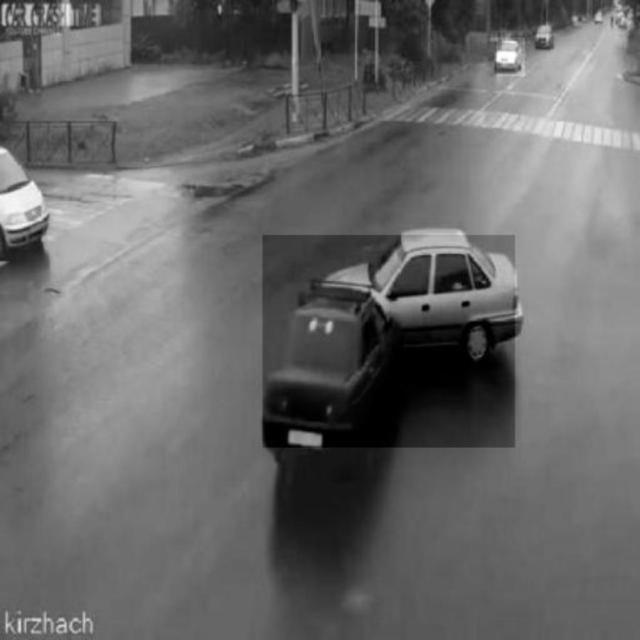accident: (263, 235, 516, 449)
vehicle: (496, 38, 524, 76)
